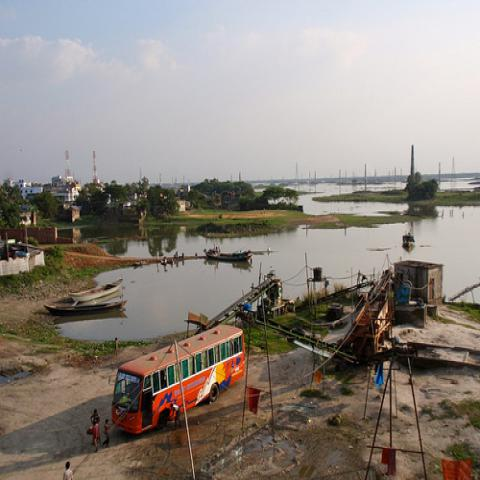bus: (111, 324, 246, 435)
